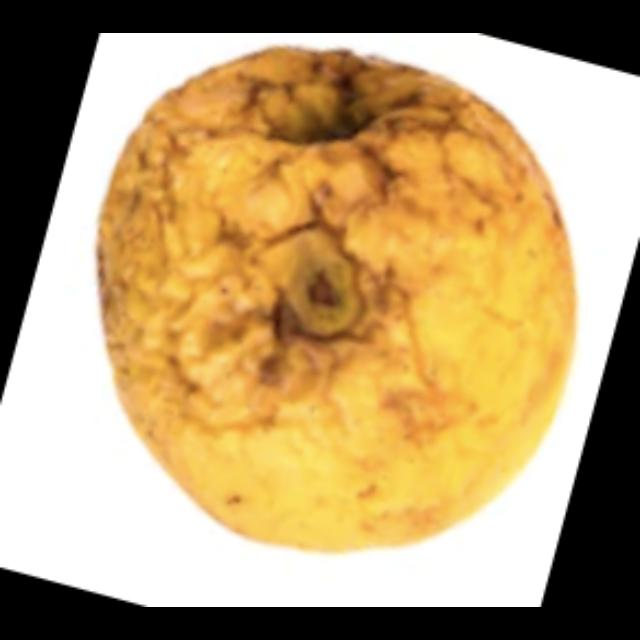Apel Tidak Segar: (101, 50, 582, 558)
